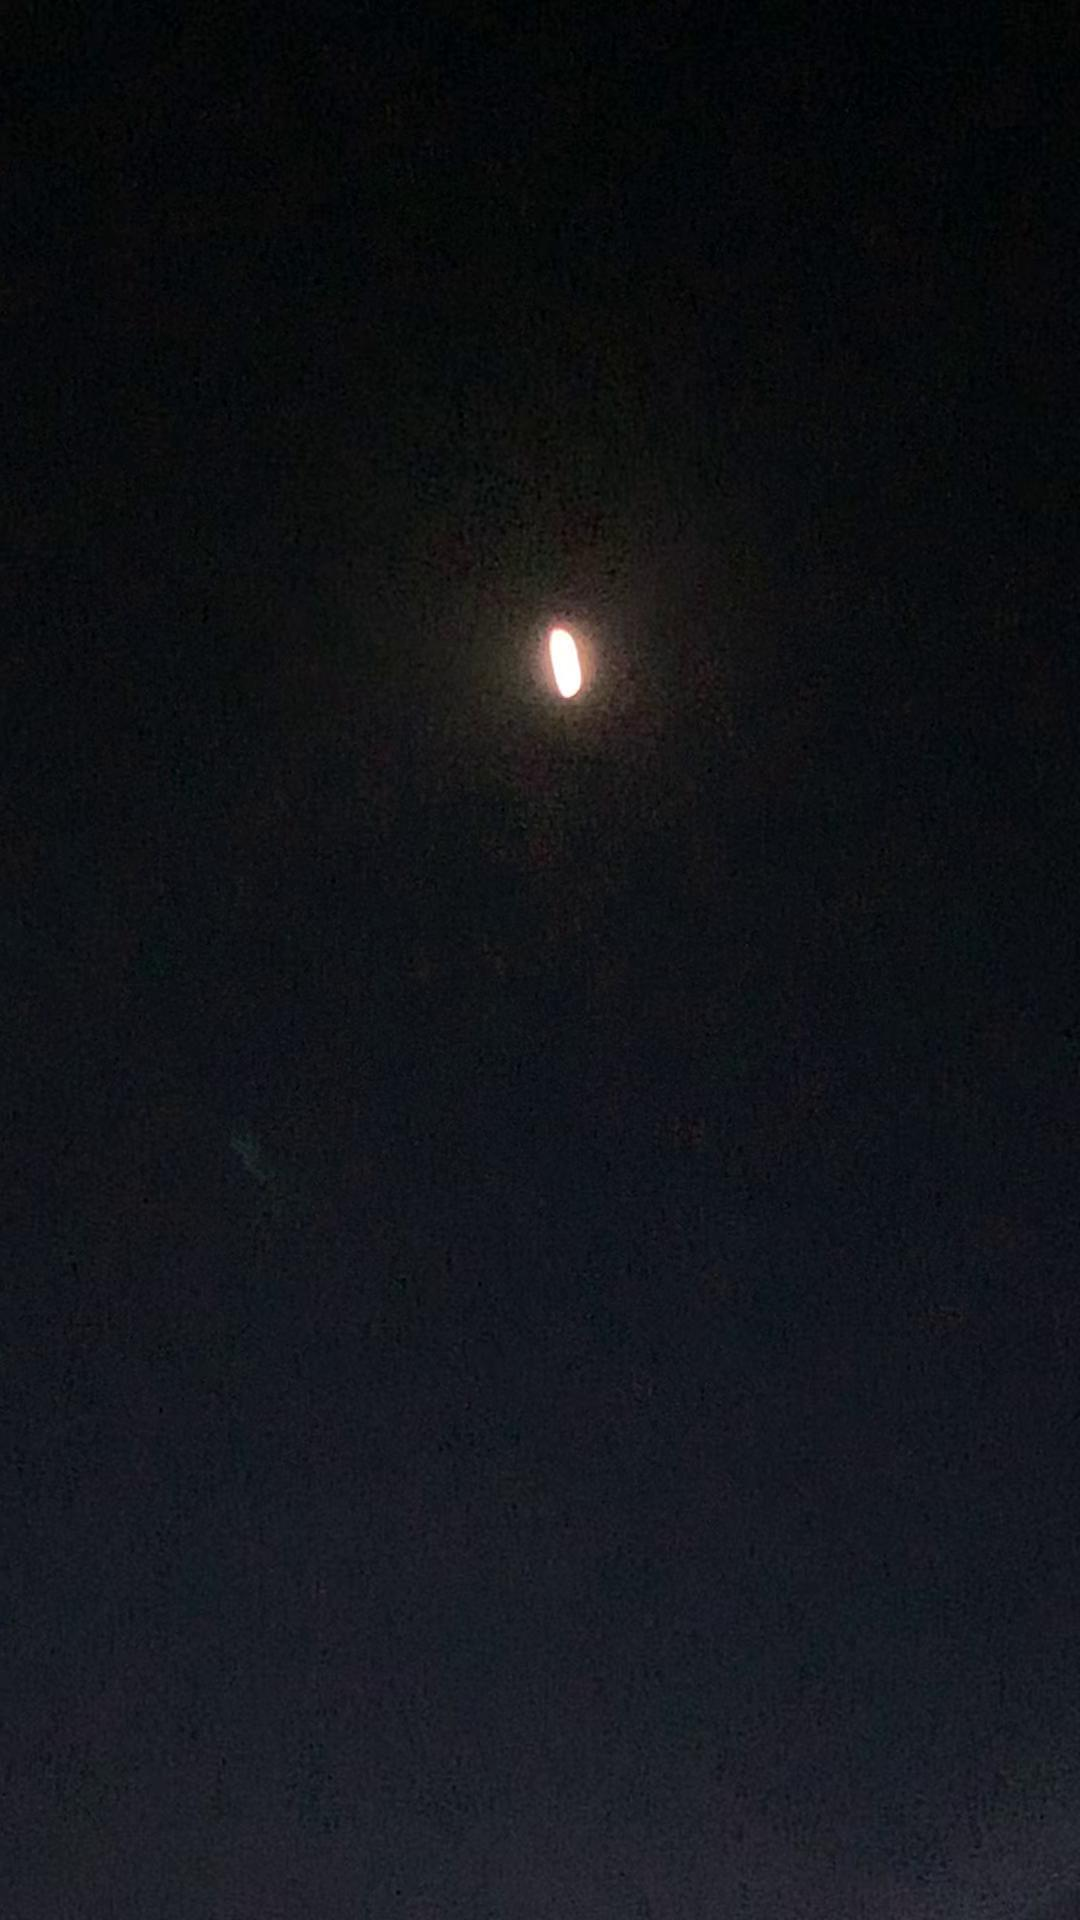moon: (529, 618, 604, 698)
